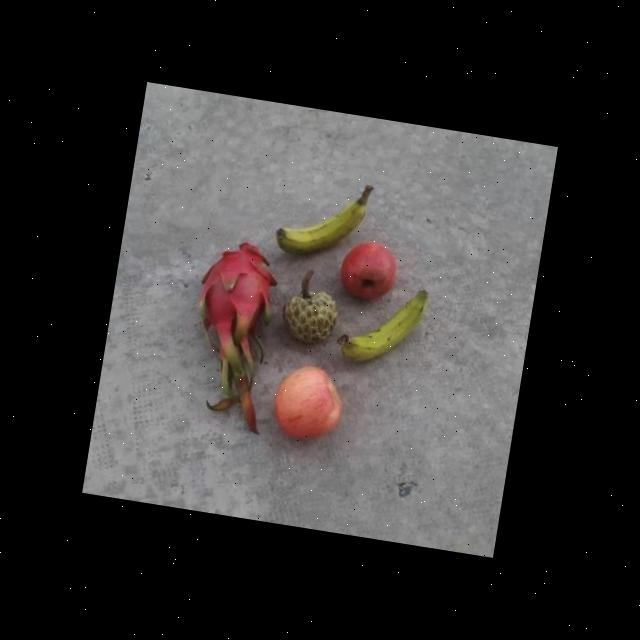Sakya fruit: (276, 284, 342, 348)
apple: (265, 359, 350, 446), (336, 233, 406, 306)
banana: (338, 276, 442, 379), (272, 179, 369, 266)
pitaya: (192, 233, 286, 344)
